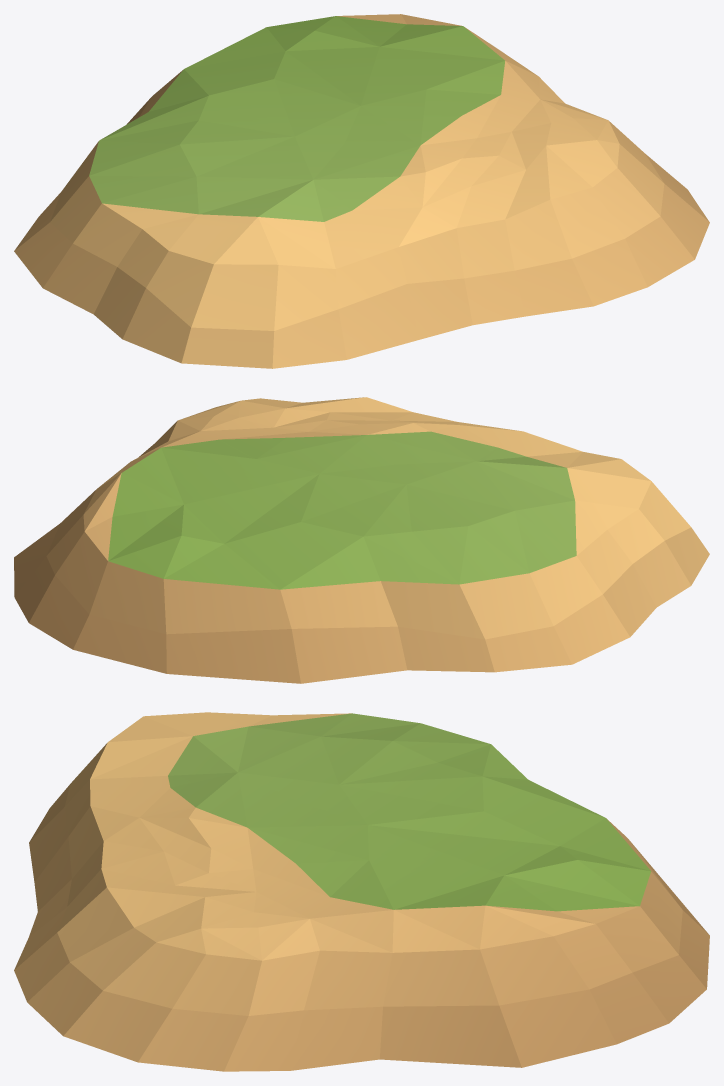
File: island-mountain-arch-2.glb
3 views of the same model, one above another, from view 1: azimuth 30°, elevation 25°; view 2: azimuth 150°, elevation 25°; view 3: azimuth 270°, elevation 25° (orthographic). The views are drawn at different scales.
Visible parts, largest first — view 1: island mountain arch 2; view 2: island mountain arch 2; view 3: island mountain arch 2.
Part boxes in pixels (x1,y1,x2,y2): island mountain arch 2: [14, 14, 709, 368]; island mountain arch 2: [14, 397, 709, 683]; island mountain arch 2: [14, 712, 709, 1071].
Bounding box in the file's own units: 17.06 × 2.82 × 16.13.
1 material, 1 textured.
